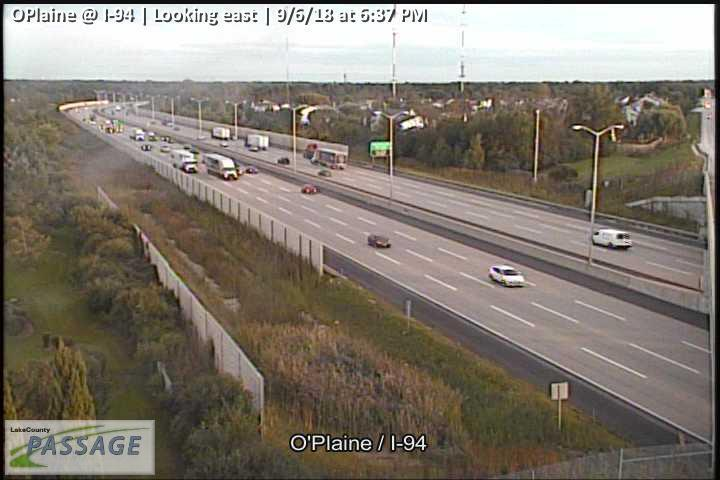Bus: (314, 148, 347, 169)
SUV: (488, 264, 524, 286), (593, 229, 632, 247), (369, 233, 391, 248)
Sedan: (303, 184, 319, 193), (245, 166, 257, 173), (278, 157, 289, 164), (318, 170, 330, 176), (159, 144, 168, 152), (183, 143, 191, 149)
Truck: (207, 154, 238, 180), (170, 150, 196, 173), (245, 133, 268, 147), (211, 127, 231, 141)
